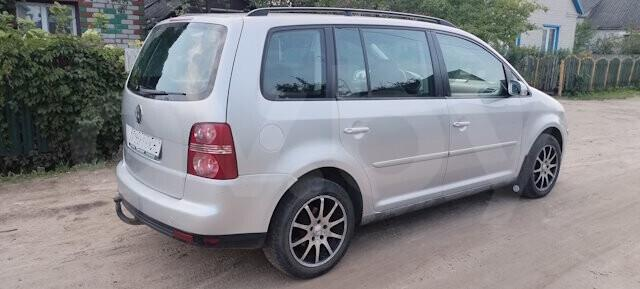Touran_2006-2010: (114, 10, 566, 276)
